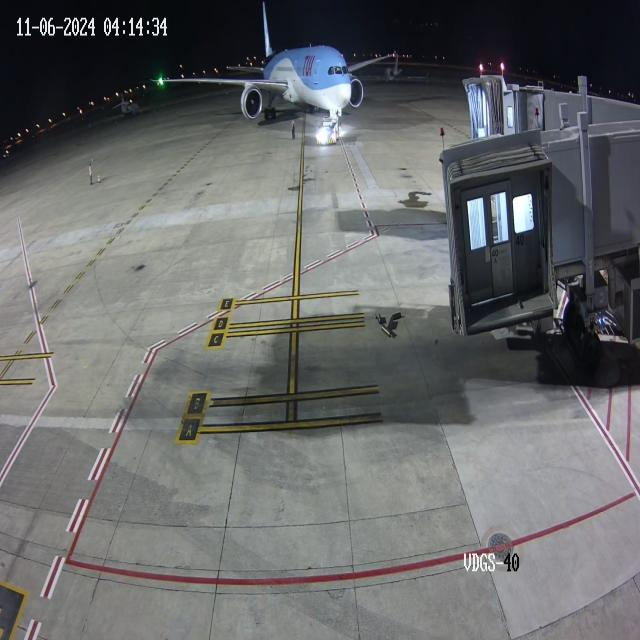bridge: (486, 71, 546, 137)
plane: (139, 4, 407, 149)
window: (324, 63, 350, 78)
